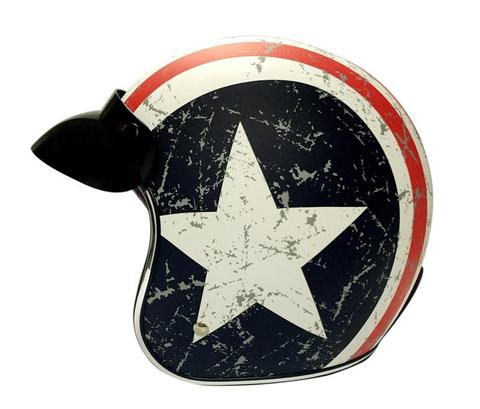with_helmet: (42, 35, 434, 389)
